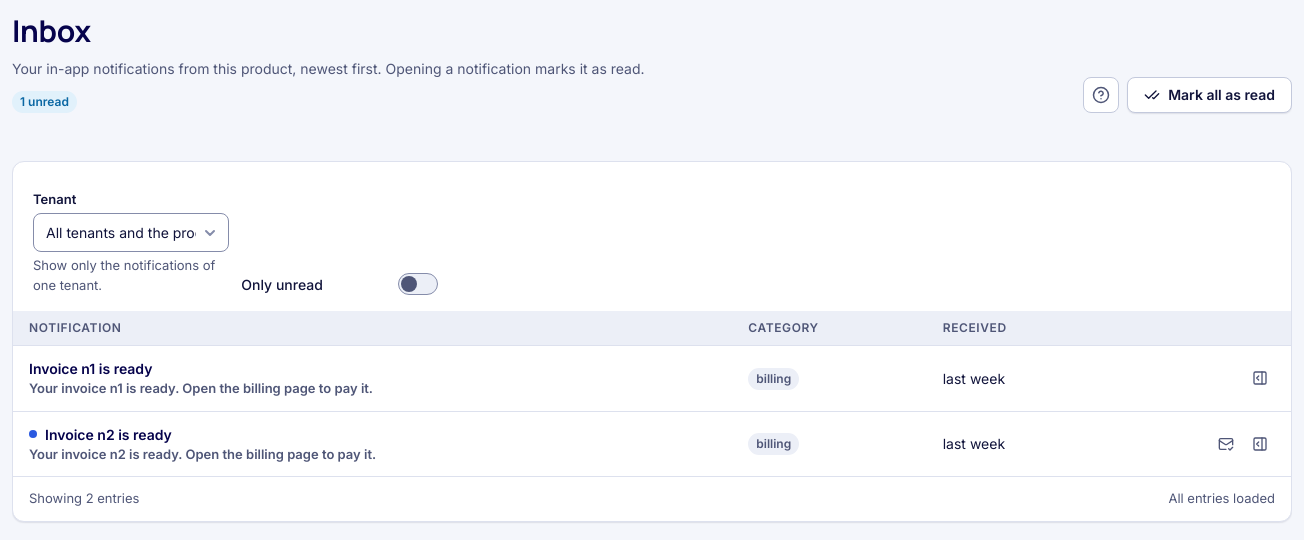
Test: InboxPage › filters by tenant and to unread notifications
Expected: the text "Invoice n1 is ready" is shown, [29, 360, 152, 377]
Click the switch at (418, 284), box [398, 273, 438, 295]
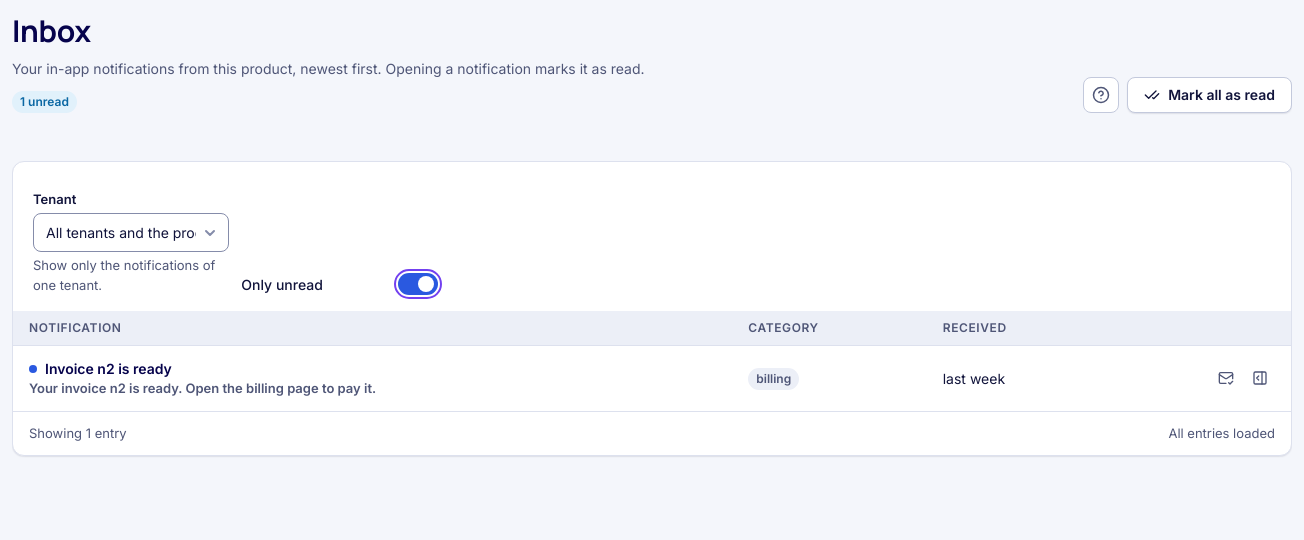
Expected: the text "Invoice n2 is ready" is shown, [28, 359, 172, 377]
Expected: the text "Invoice n1 is ready" is gone
Select "Acme" in the dropdown labelled "Tenant" at (131, 232), box [33, 213, 229, 252]
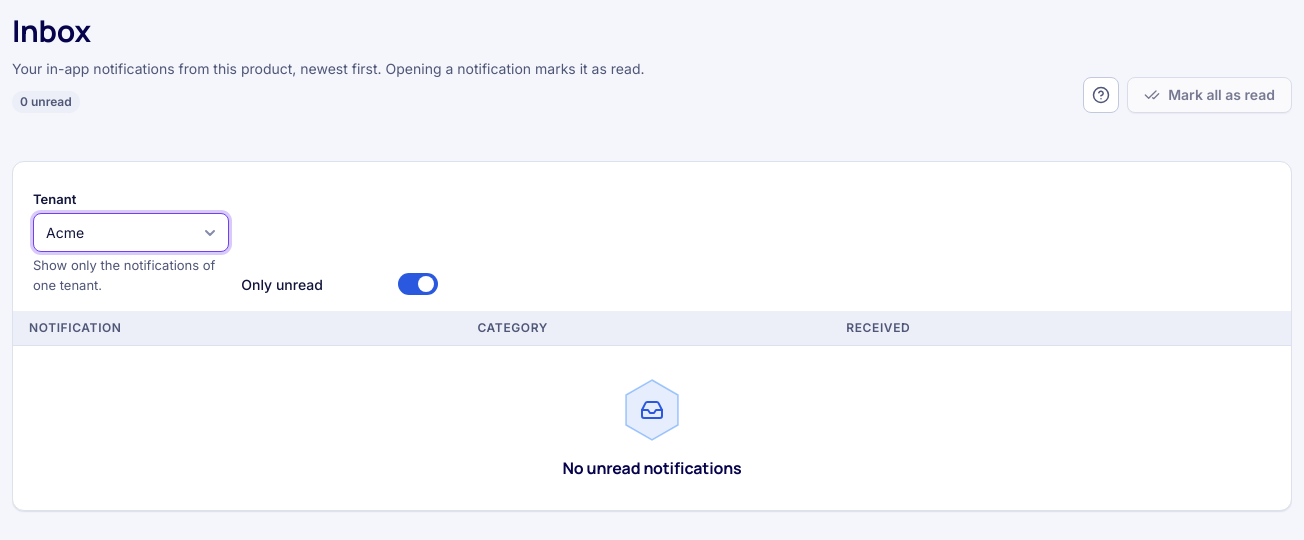
Expected: the heading "No unread notifications" is shown, [562, 458, 742, 478]
